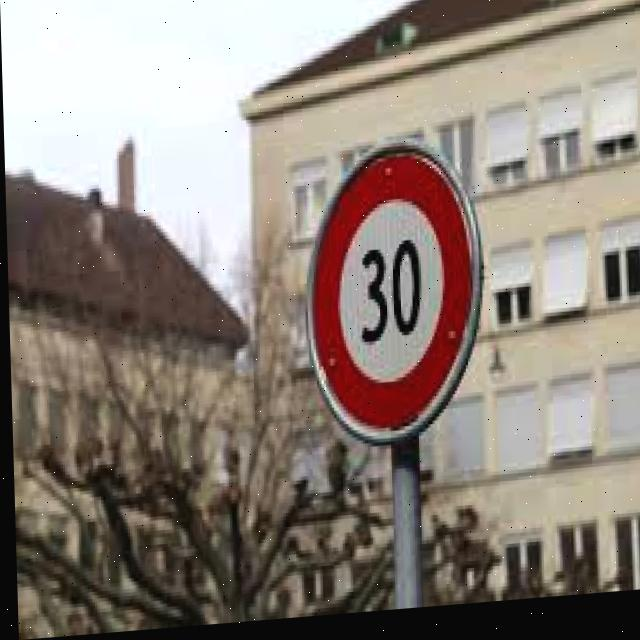Speed limit 30: (298, 138, 487, 458)
